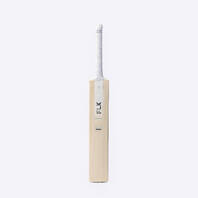bottom left: (84, 175, 96, 187)
bottom right: (102, 174, 117, 187)
top left: (83, 78, 97, 89)
top right: (105, 76, 114, 87)
